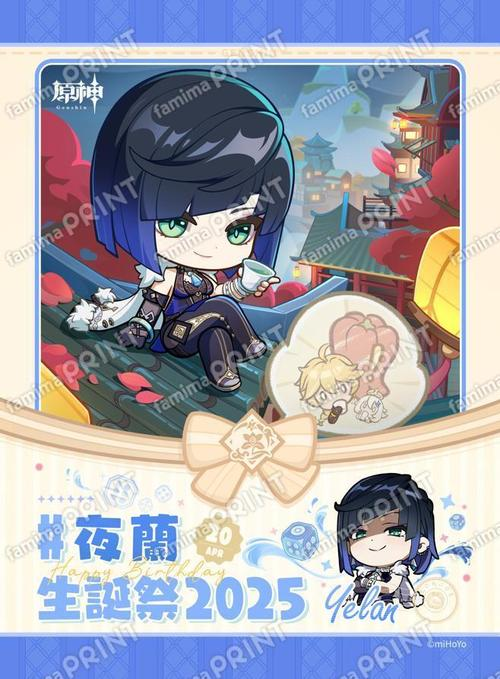夜兰: (66, 72, 283, 392), (335, 484, 435, 620)
